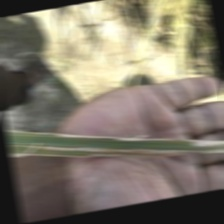Leaf_Blast: (17, 110, 224, 177)
